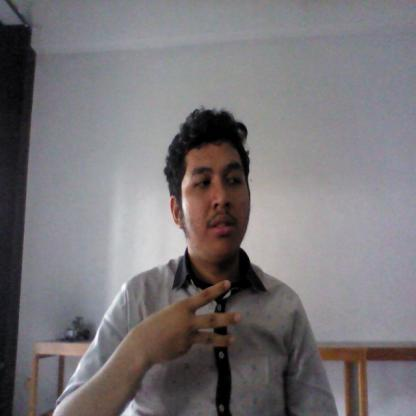E: (150, 276, 244, 367)
